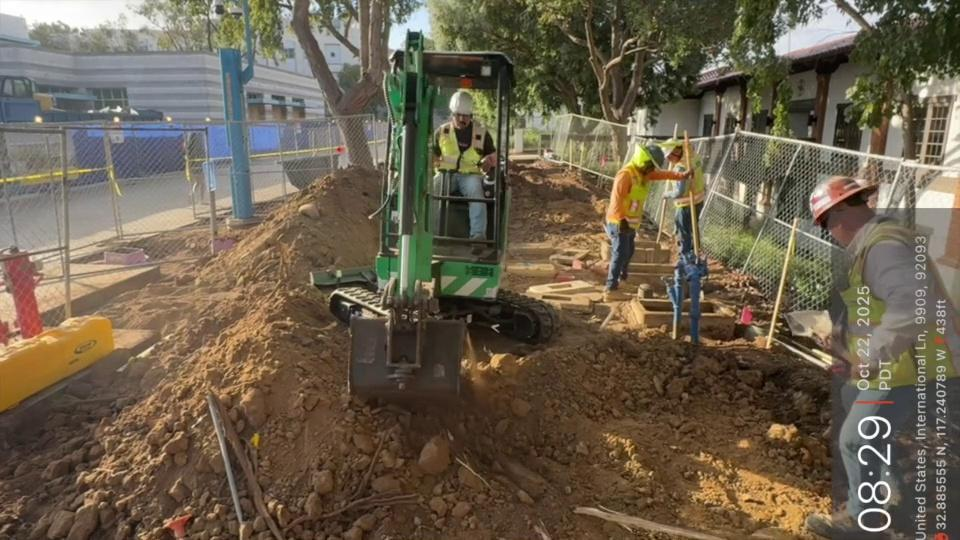Exacavator: (307, 28, 561, 409)
